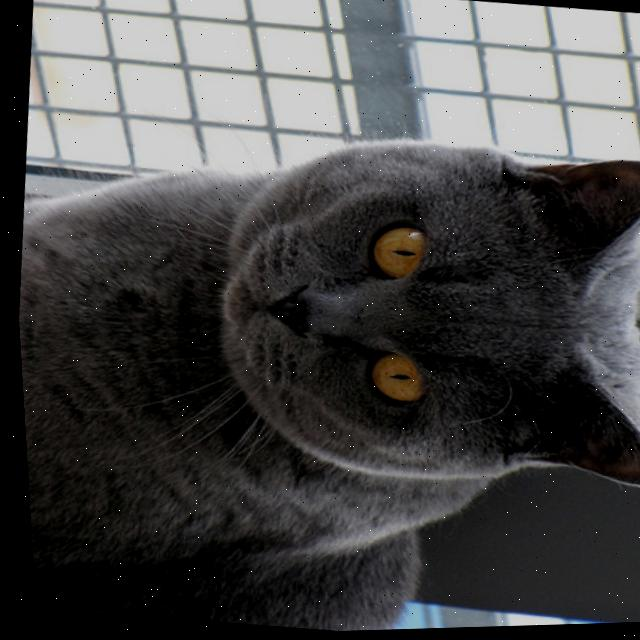British Shorthair: (5, 84, 640, 640)
